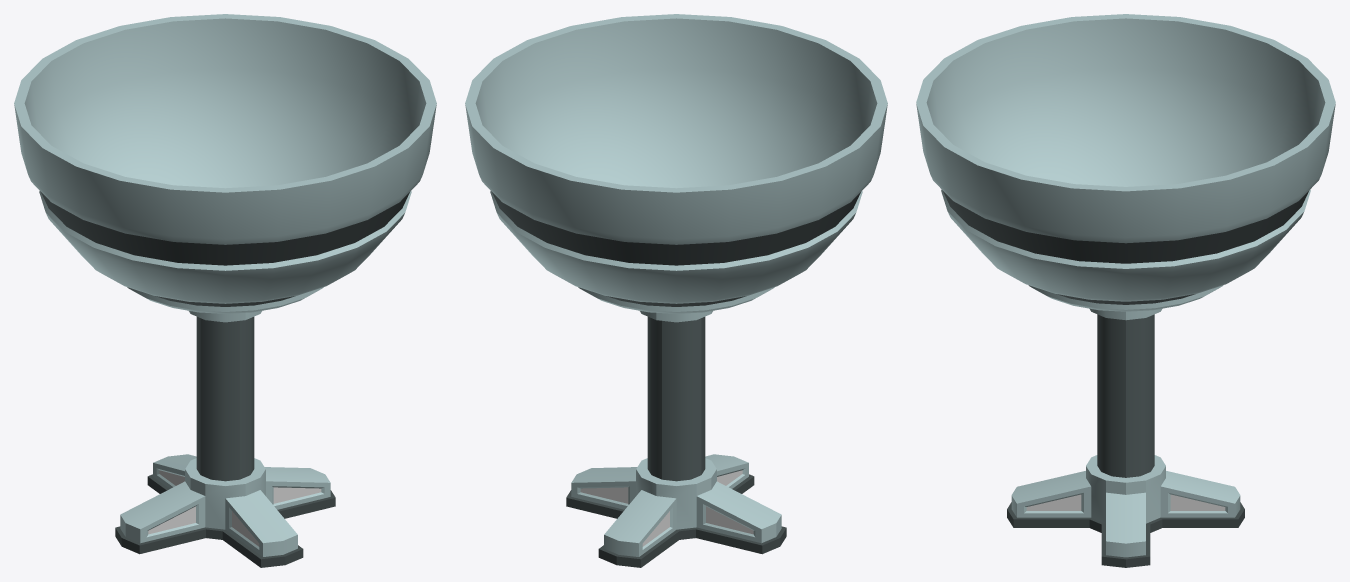
The model's file is BallHolder.fbx.
The picture shows the model from 3 angles, left to right: view 1: azimuth 30°, elevation 25°; view 2: azimuth 150°, elevation 25°; view 3: azimuth 270°, elevation 25°; orthographic projection.
Parts seen in each view (by area): view 1: BallHolder, BallHolderBase, BallHolderPole; view 2: BallHolder, BallHolderBase, BallHolderPole; view 3: BallHolder, BallHolderBase, BallHolderPole.
Boxes of the visible parts, x1,y1,x2,y2 form: BallHolder: [14, 14, 436, 322]; BallHolderBase: [115, 454, 335, 567]; BallHolderPole: [196, 317, 254, 481]; BallHolder: [465, 14, 887, 322]; BallHolderBase: [566, 454, 786, 567]; BallHolderPole: [647, 317, 705, 481]; BallHolder: [916, 14, 1335, 320]; BallHolderBase: [1007, 455, 1244, 567]; BallHolderPole: [1097, 314, 1154, 477].
Bounding box in the file's own units: 220 × 240 × 220.
